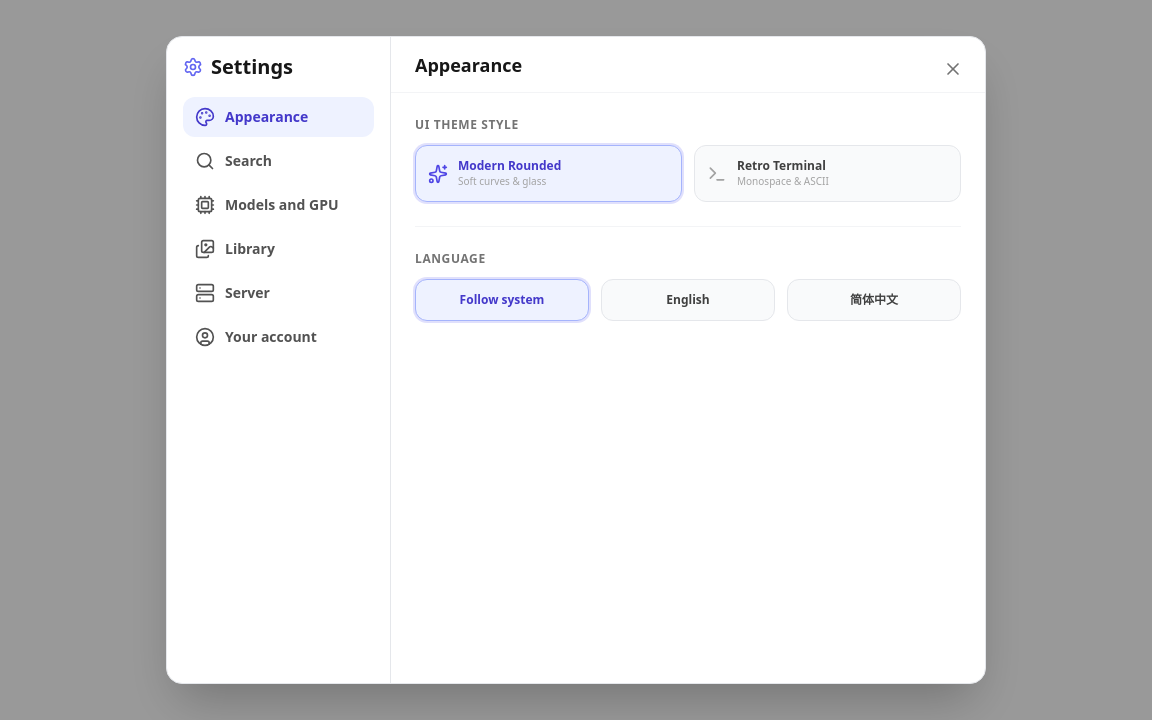
Test: SettingsModal › groups › shows no export section to a network owner or viewer
Click the tab "Library". click: (278, 249)
box: left=183, top=229, right=374, bottom=269
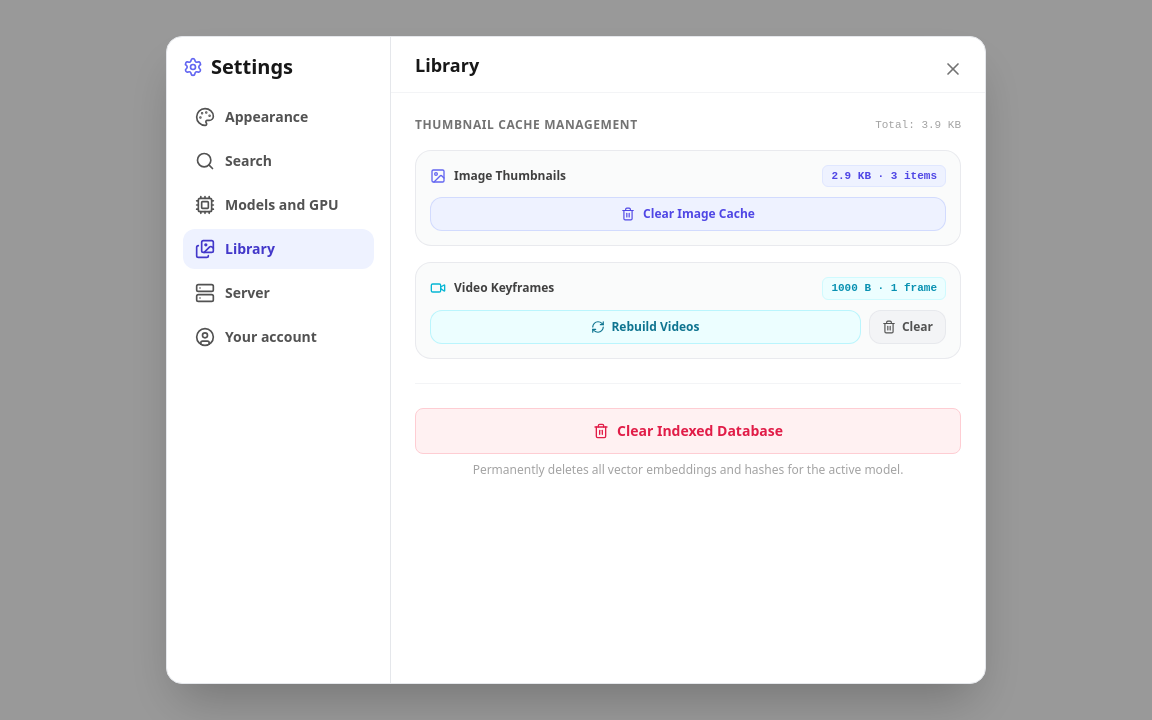
Expected: the heading "Thumbnail Cache Management" is shown, left=415, top=117, right=638, bottom=133
